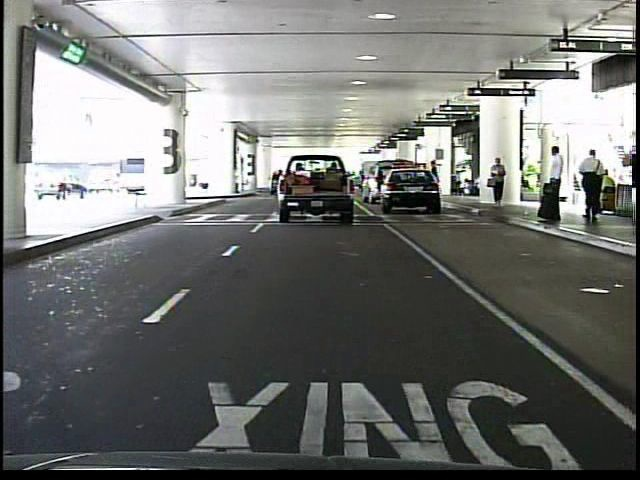person: (576, 145, 609, 226), (538, 143, 568, 227), (487, 153, 511, 213), (429, 158, 443, 201)
